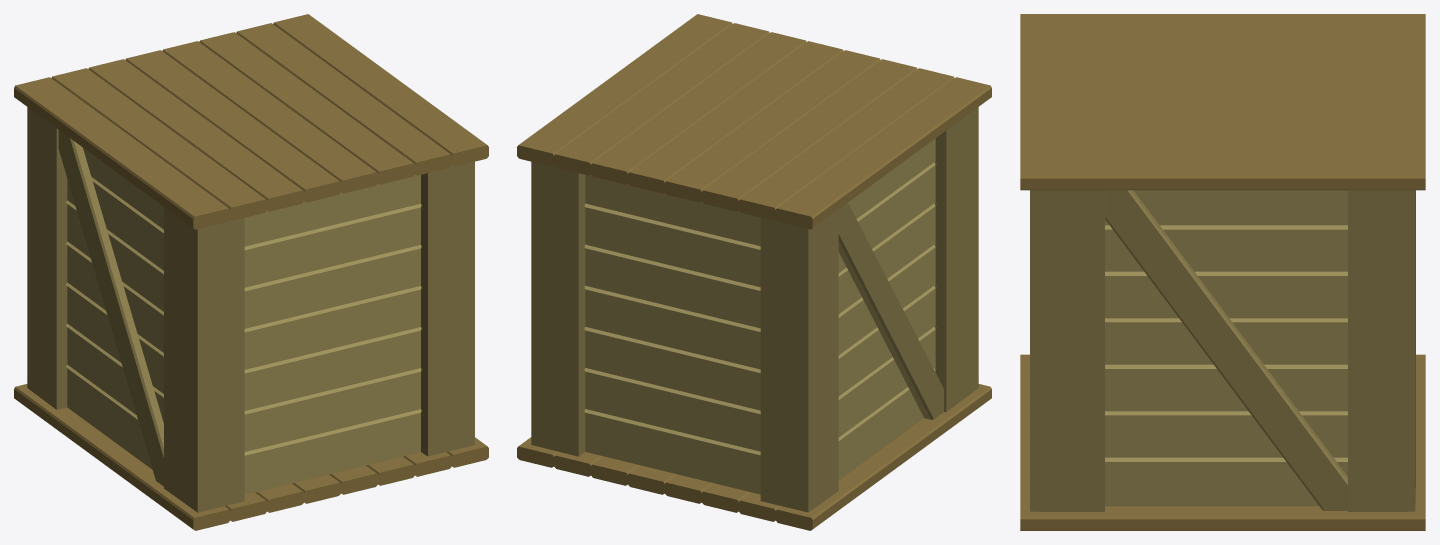
Rendered from Create.fbx.
3 renders of one model, left to right at view 1: azimuth 30°, elevation 25°; view 2: azimuth 150°, elevation 25°; view 3: azimuth 270°, elevation 25°, orthographic. The views are drawn at different scales.
Visible parts, largest first — view 1: Create, Lock; view 2: Create, Lock; view 3: Create, Lock.
Boxes of the visible parts, bbox=[...] form: Create: bbox=[14, 107, 488, 530]; Lock: bbox=[14, 14, 488, 229]; Create: bbox=[517, 107, 991, 530]; Lock: bbox=[517, 14, 991, 229]; Create: bbox=[1020, 190, 1425, 530]; Lock: bbox=[1020, 14, 1425, 190].
Size of the model in its own units: 94.23 by 95.79 by 98.99.
